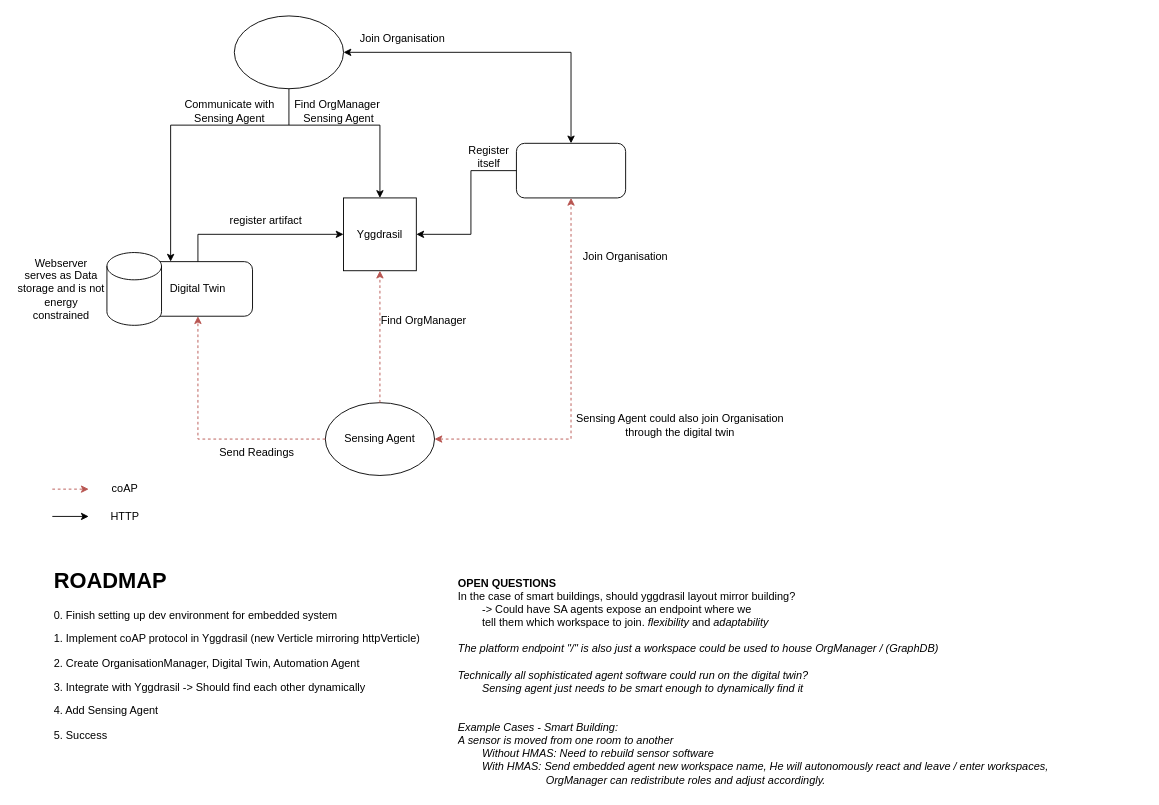
The diagram is 1159 pixels wide and 805 high, and some of its shapes have lost their labels. The centre of each missing label's shape, as x and y in pixels:
"Autonomous Agent" goes at [288,52].
"OrgManager" goes at [571,170].
